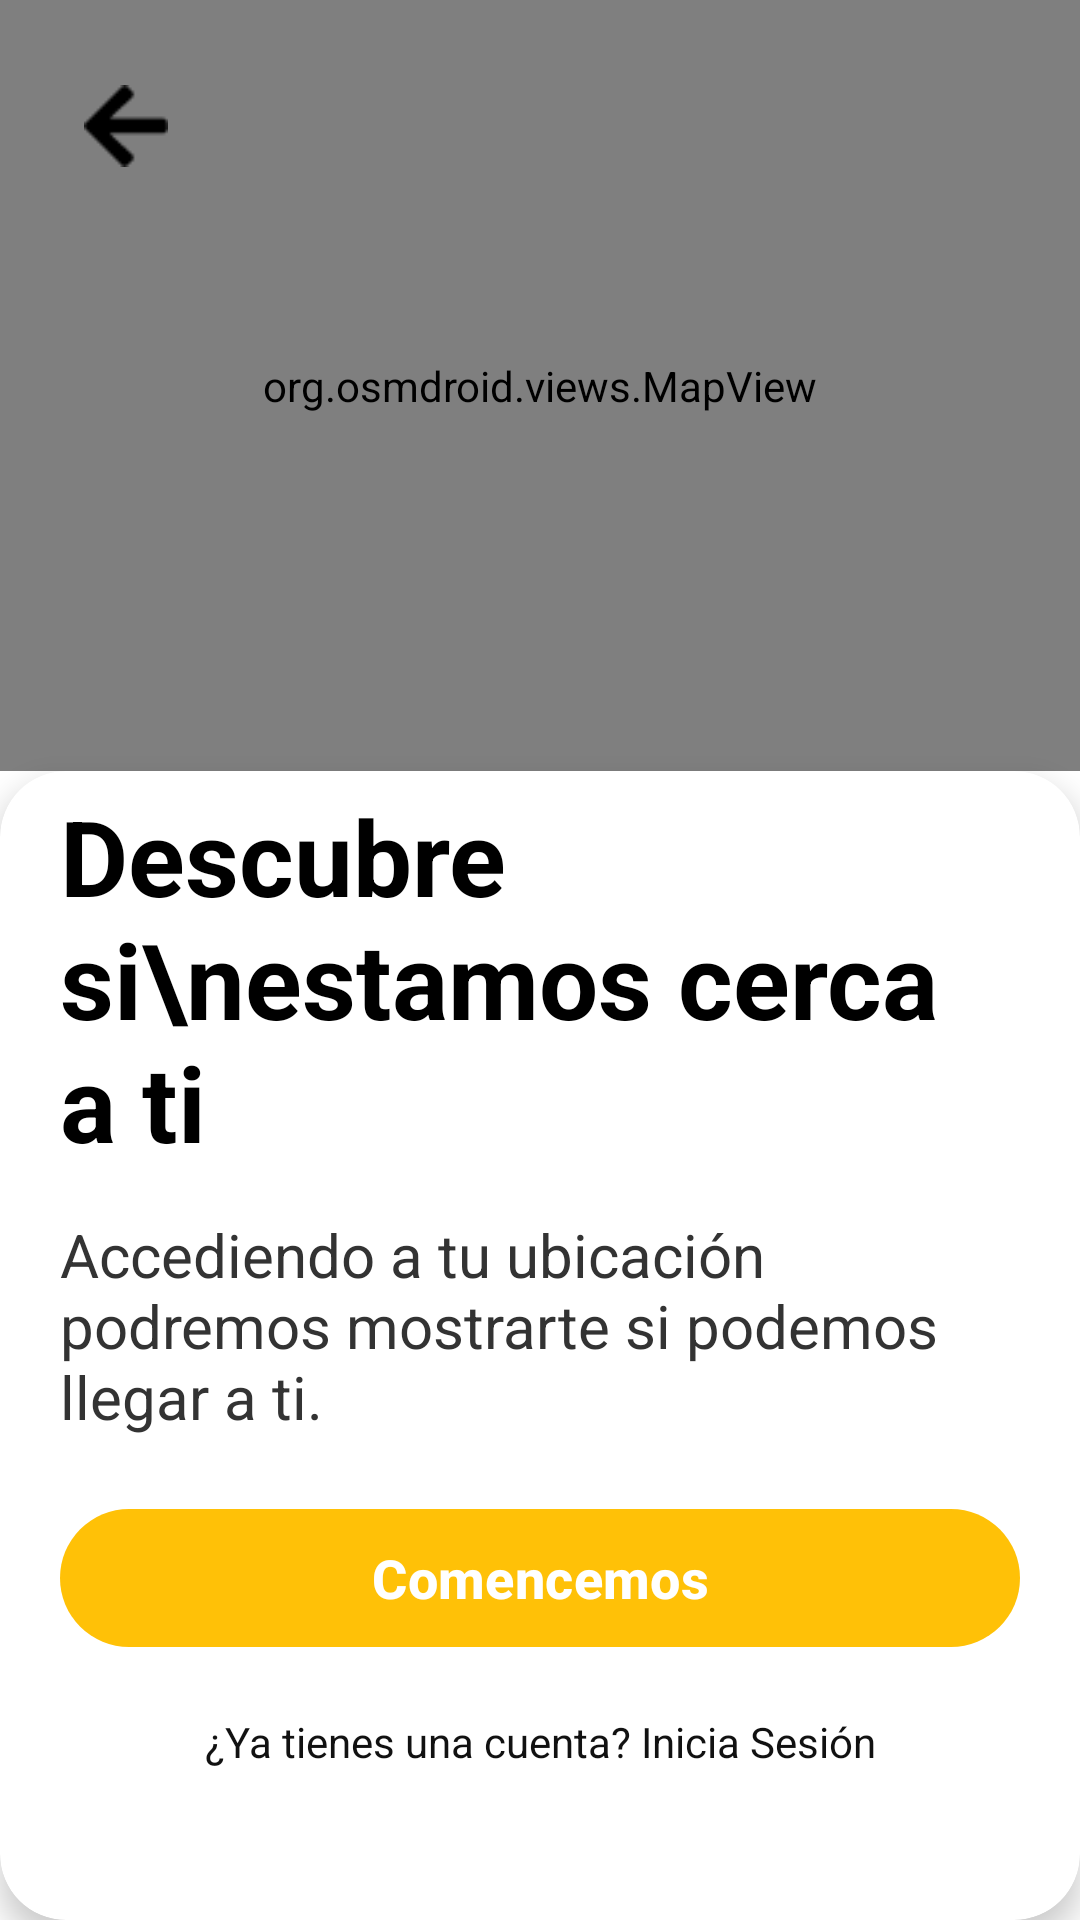

Icon bounding boxes for this 1080x1920 phone screenshot, format (x1, y1, x2, y2):
Atrás: (84, 85, 168, 167)
